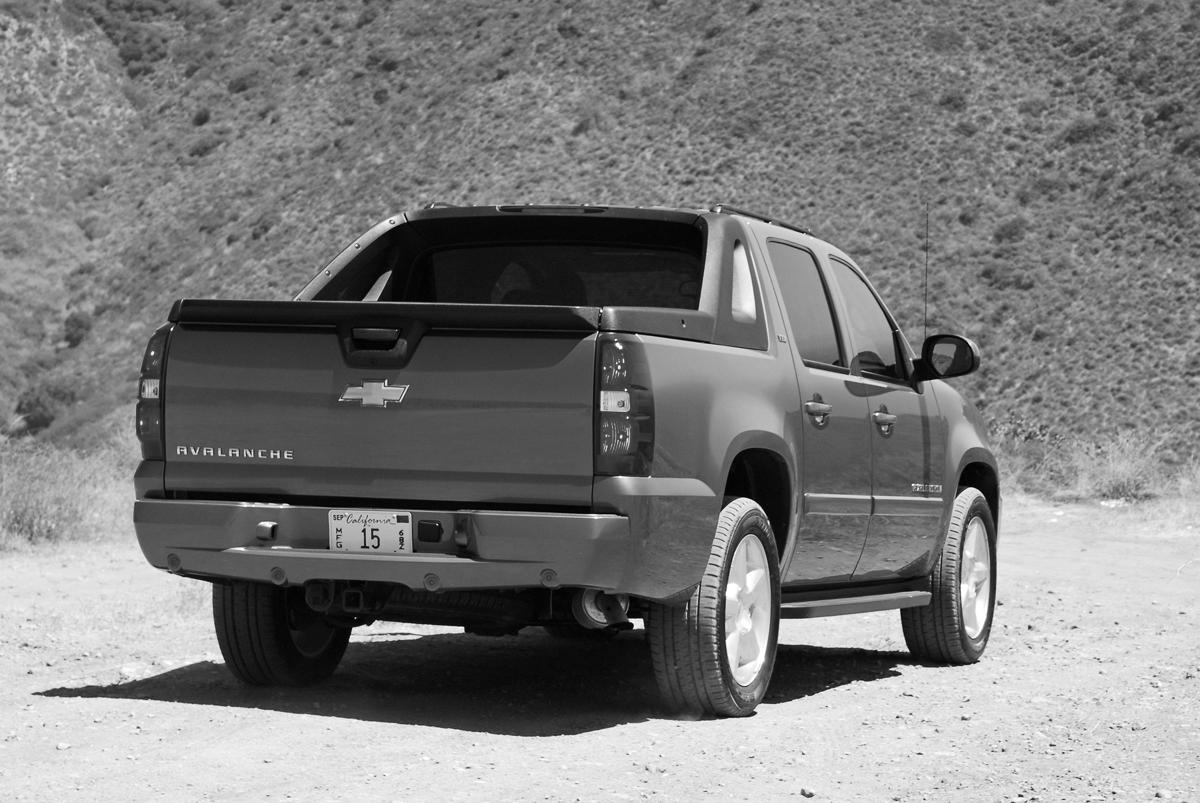car: (133, 202, 1005, 722)
